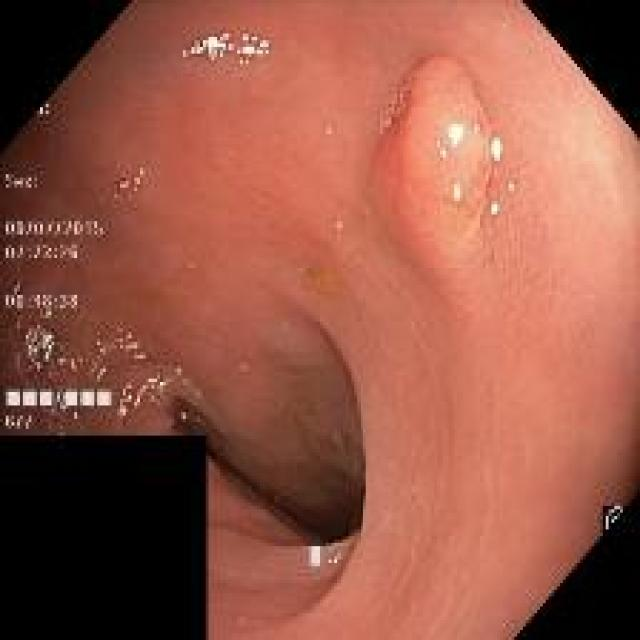Polyps: (375, 57, 502, 307)
